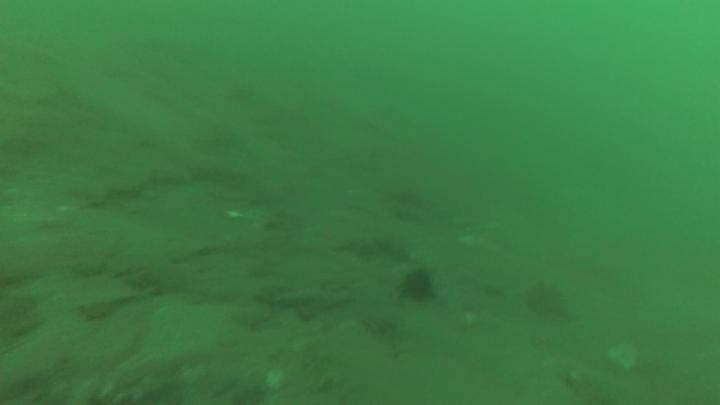echinus: (522, 279, 570, 322), (398, 266, 438, 305)
